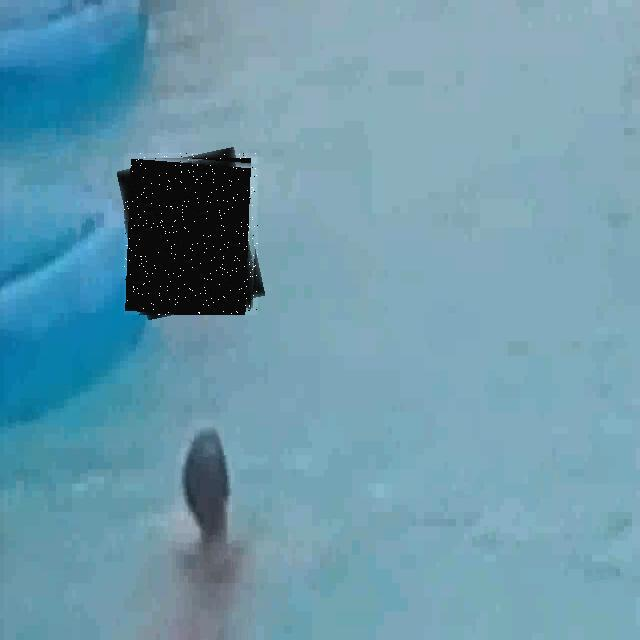Out of Water: (124, 153, 258, 315)
